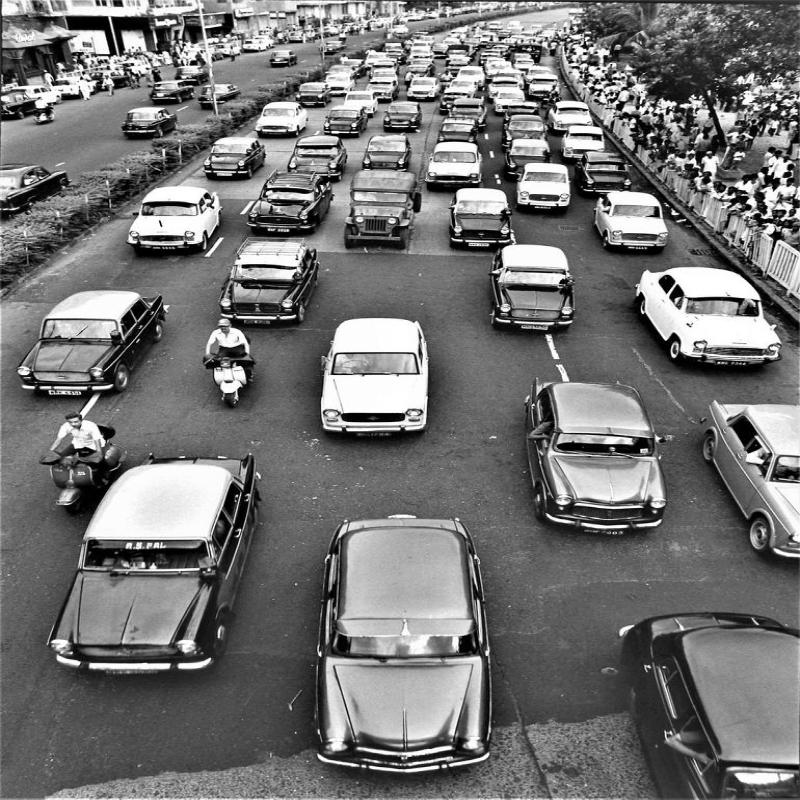car: (288, 492, 508, 791), (81, 437, 244, 726), (586, 568, 800, 768), (18, 264, 171, 428), (302, 292, 456, 454), (631, 252, 798, 393), (527, 379, 677, 524), (112, 172, 221, 267), (352, 177, 420, 249)
